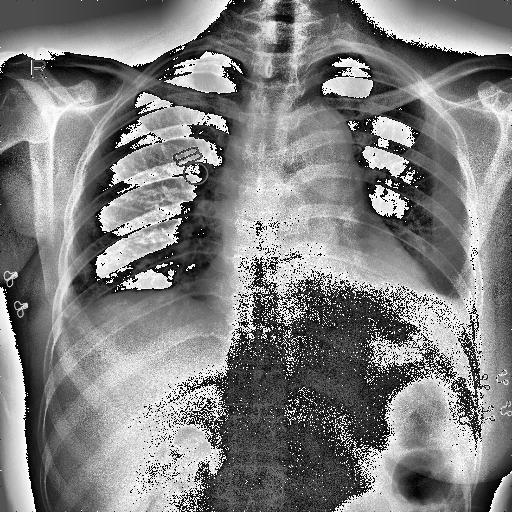0- Aortic enlargement: (278, 98, 358, 190), (270, 108, 350, 184), (284, 102, 360, 181)
10- Pleural effusion: (428, 260, 480, 333), (51, 299, 77, 344), (449, 287, 479, 326)
11- Pleural thickening: (449, 287, 479, 326), (51, 299, 77, 344)
3- Cardiomegaly: (201, 246, 437, 329), (199, 266, 433, 330)
7- Lung Opacity: (60, 284, 94, 328), (450, 286, 478, 335)
